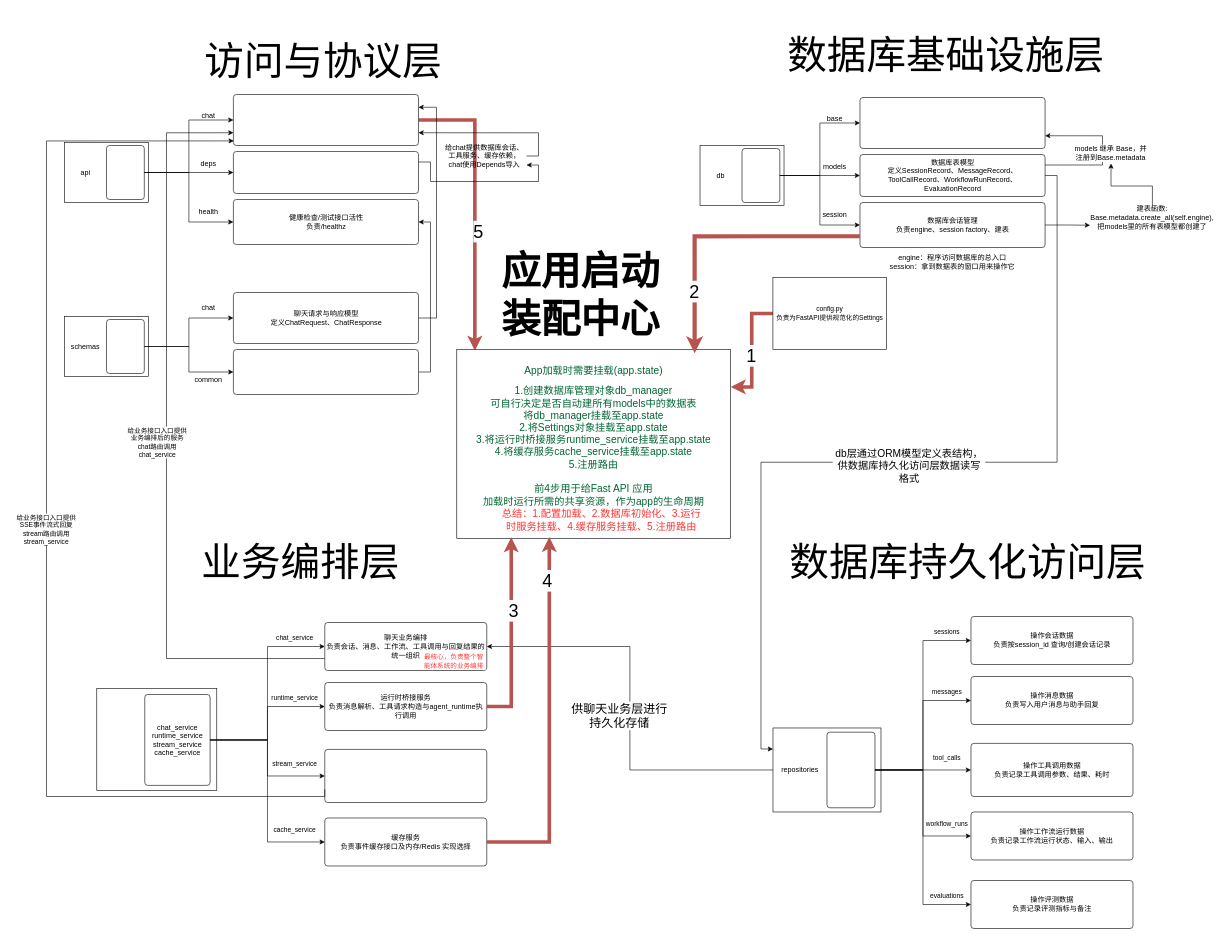
The diagram is 1224 pixels wide and 939 high, and some of its shapes have lost their labels. Here are the shapes that lost their labels. From the top down, the centre of each, then its label:
At (x=325, y=120): "业务接口入口 负责/chat、/chat/stream路由，请求进入点".
At (x=952, y=122): "ORM声明基类 提供Base / Base.metadata".
At (x=125, y=172): "chat deps health".
At (x=325, y=172): "Depends依赖提供器 负责提供db_session、runtime_service、event_cache".
At (x=760, y=175): "base models session".
At (x=125, y=346): "chat common".
At (x=325, y=371): "通用响应模型 定义HealthResponse等公共结构".
At (x=126, y=739): "services".
At (x=405, y=775): "流式输出服务 负责将完整响应拆分为SSE事件序列".
At (x=850, y=770): "sessions messages tool_calls workflow_runs evaluations".
